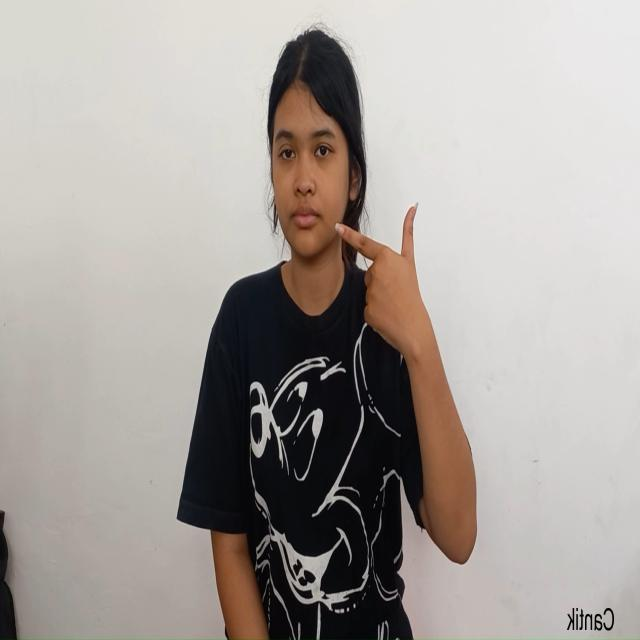Cantik -BISINDO-: (267, 24, 423, 367)
